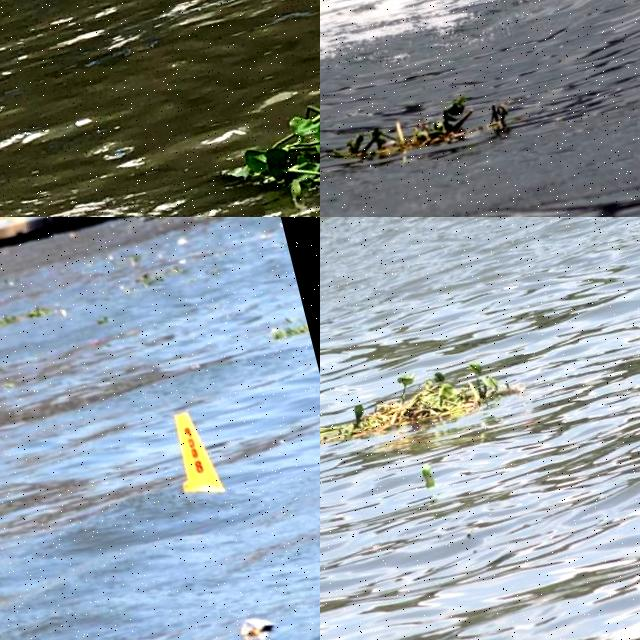water-hyacinth: (321, 356, 523, 466), (321, 80, 514, 183), (212, 114, 321, 218), (1, 525, 79, 630), (321, 440, 370, 529)
